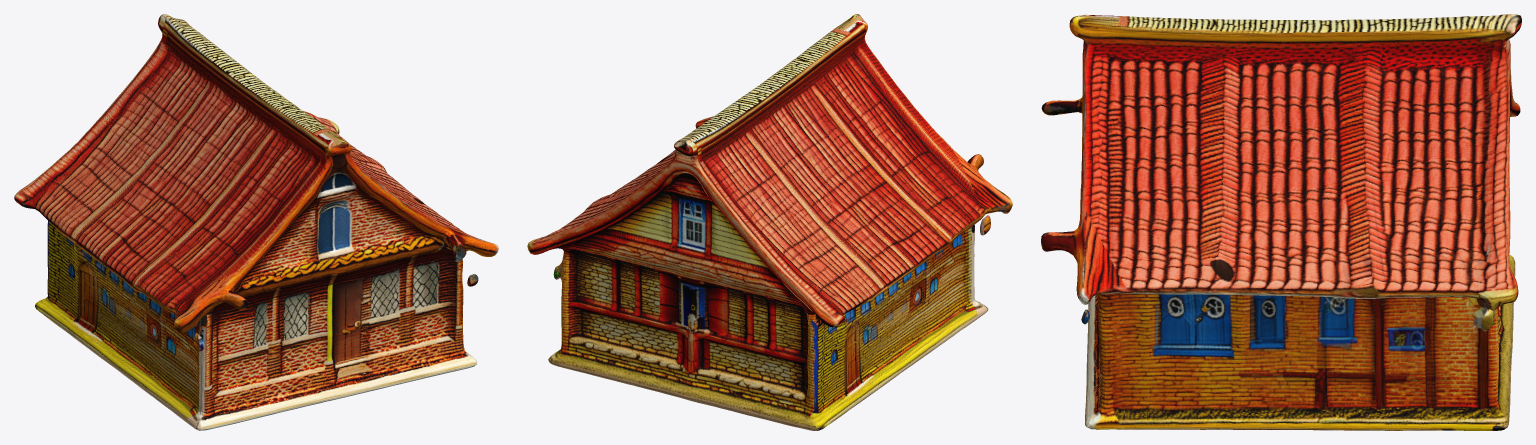
The model's file is textured_image.glb.
3 renders of one model, left to right at view 1: azimuth 30°, elevation 25°; view 2: azimuth 150°, elevation 25°; view 3: azimuth 270°, elevation 25°, orthographic. The views are drawn at different scales.
Parts seen in each view (by area): view 1: Node; view 2: Node; view 3: Node.
Boxes of the visible parts, left/top/right/bottom form: Node: left=14, top=14, right=498, bottom=430; Node: left=527, top=14, right=1012, bottom=430; Node: left=1041, top=14, right=1521, bottom=430.
Bounding box in the file's own units: 1.96 × 1.52 × 2.
1 material, 1 textured.
